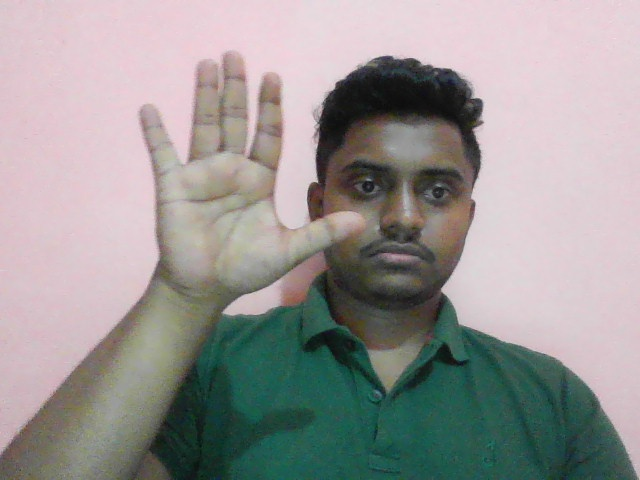Hello: (132, 46, 371, 310)
